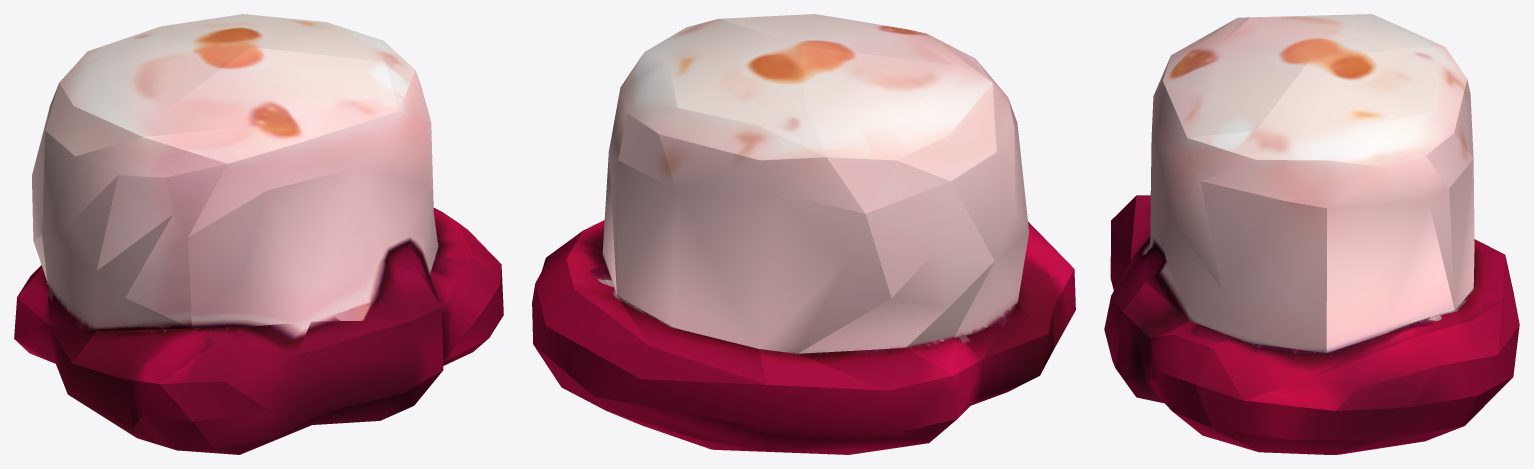
The model's file is tooth2_0.3.fbx.
3 renders of one model, left to right at view 1: azimuth 30°, elevation 25°; view 2: azimuth 150°, elevation 25°; view 3: azimuth 270°, elevation 25°, orthographic. The views are drawn at different scales.
Parts seen in each view (by area): view 1: temp; view 2: temp; view 3: temp.
Part boxes in pixels (bbox=[...]): temp: bbox=[14, 14, 503, 454]; temp: bbox=[532, 14, 1075, 454]; temp: bbox=[1104, 14, 1519, 454].
Bounding box in the file's own units: 1.91 × 1.36 × 1.62.
Materials: 1 (1 with a texture image).
